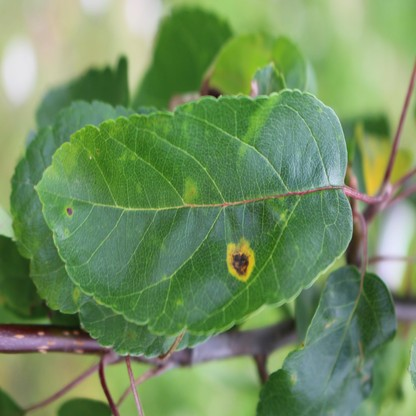rust: (225, 239, 256, 283)
scab: (73, 288, 80, 302), (292, 372, 296, 382), (126, 332, 131, 339), (191, 188, 195, 195), (301, 342, 304, 348)
